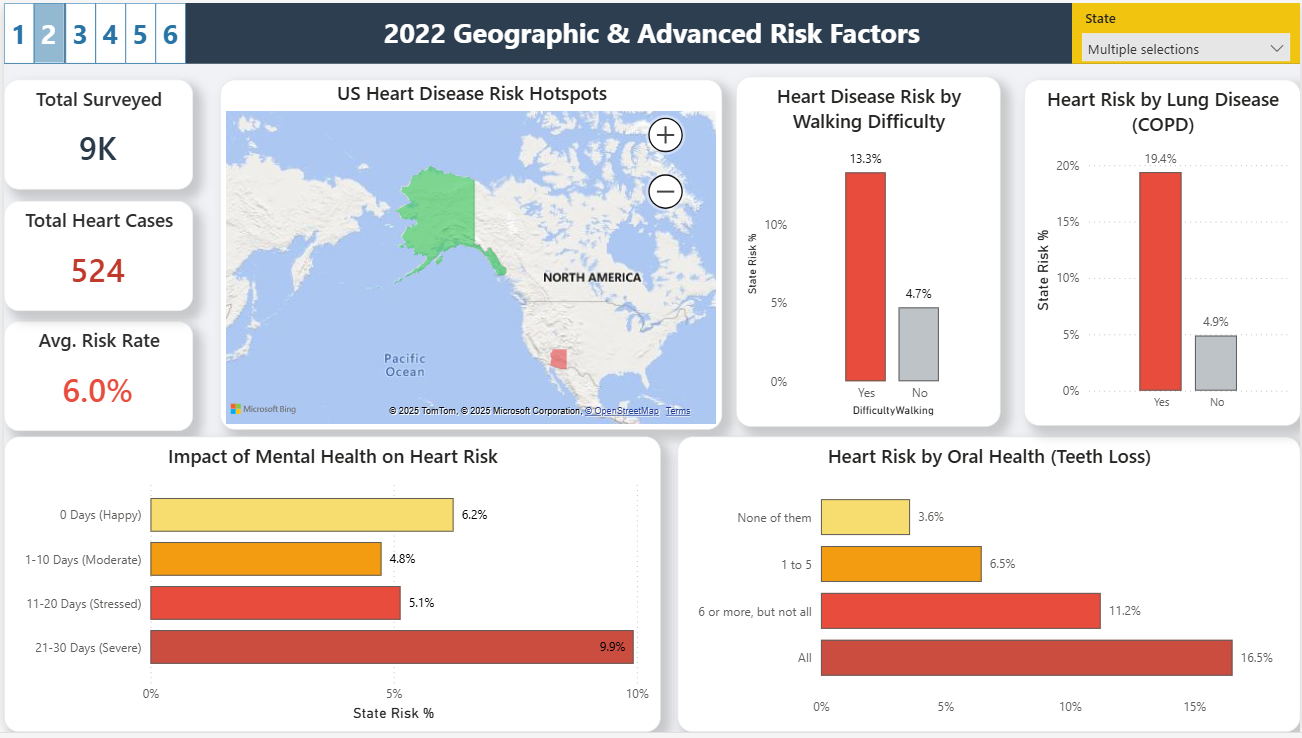

What the dashboard file says about the page in this screenshot:
{"tool":"powerbi","page":{"name":"Geography & State Analysis","canvas":[1280,720],"ordinal":2},"visuals":[{"type":"group","id":"g1","title":"Group 1","box":[0,0,1280,60],"z":0},{"type":"shape","box":[0,0,1280,60],"z":0,"group":"g1"},{"type":"actionButton","box":[0,0,30,60],"z":0,"group":"g2"},{"type":"actionButton","box":[30,0.1,30,60],"z":1000,"group":"g2"},{"type":"textbox","box":[368.6,4.7,541.8,55.1],"z":1000,"group":"g1"},{"type":"filledMap","title":"US Heart Disease Risk Hotspots","fields":{"Category":["heart_2022_no_nans.State"]},"box":[212.7,74.9,496.2,346.3],"z":1000},{"type":"slicer","fields":{"Values":["heart_2022_no_nans.State"]},"box":[1055,0,225,60],"z":2000},{"type":"actionButton","box":[90,0.1,30,60],"z":2000,"group":"g2"},{"type":"actionButton","box":[60,0.1,30,60],"z":3000,"group":"g2"},{"type":"clusteredColumnChart","title":"Heart Disease Risk by Walking Difficulty","fields":{"Y":["Key Measures.State Risk %"],"Category":["heart_2022_no_nans.DifficultyWalking"]},"box":[723,72.9,261.3,346.3],"z":3000},{"type":"actionButton","box":[120,0.1,30,60],"z":4000,"group":"g2"},{"type":"cardVisual","title":"Total Surveyed","fields":{"Data":["Key Measures.Total People 2022"]},"box":[0,75,186.7,108.3],"z":4000},{"type":"cardVisual","title":"Avg. Risk Rate","fields":{"Data":["Key Measures.State Risk %"]},"box":[0,313.3,186.7,108.3],"z":5000},{"type":"cardVisual","title":"Total Heart Cases","fields":{"Data":["Key Measures.Heart Patients 2022"]},"box":[0,195,186.7,108.3],"z":6000},{"type":"clusteredBarChart","title":"Impact of Mental Health on Heart Risk","fields":{"Category":["heart_2022_no_nans.Mental Health Category"],"Y":["Key Measures.State Risk %"]},"box":[0,428.3,648.3,291.7],"z":7000},{"type":"clusteredBarChart","title":"Heart Risk by Oral Health (Teeth Loss)","fields":{"Category":["heart_2022_no_nans.RemovedTeeth"],"Y":["Key Measures.State Risk %"]},"box":[665,428.3,615,291.7],"z":8000},{"type":"group","id":"g2","title":"Group 2","box":[0,0,150,60.1],"z":9000,"group":"g3"},{"type":"clusteredColumnChart","title":"Heart Risk by Lung Disease (COPD)","fields":{"Category":["heart_2022_no_nans.HadCOPD"],"Y":["Key Measures.State Risk %"]},"box":[1006.7,75,273.3,341.7],"z":9000},{"type":"group","id":"g3","title":"Group 3","box":[0,0,180,60],"z":10000},{"type":"actionButton","box":[150,0,30,60],"z":10500,"group":"g3"}]}

Visuals, with their boxes in screenshot pixels (x1, y1, x2, y2), scaled from the page's 1280x720 canvas onto the 1302x738 screenshot:
"Group 1" group: 0, 0, 1301, 61
shape: 0, 0, 1301, 61
actionButton: 0, 0, 31, 61
actionButton: 31, 0, 61, 62
textbox: 375, 5, 926, 61
"US Heart Disease Risk Hotspots" filledMap: 216, 77, 721, 432
slicer - heart_2022_no_nans.State: 1073, 0, 1301, 61
actionButton: 92, 0, 122, 62
actionButton: 61, 0, 92, 62
"Heart Disease Risk by Walking Difficulty" clusteredColumnChart: 735, 75, 1001, 430
actionButton: 122, 0, 153, 62
"Total Surveyed" cardVisual: 0, 77, 190, 188
"Avg. Risk Rate" cardVisual: 0, 321, 190, 432
"Total Heart Cases" cardVisual: 0, 200, 190, 311
"Impact of Mental Health on Heart Risk" clusteredBarChart: 0, 439, 659, 737
"Heart Risk by Oral Health (Teeth Loss)" clusteredBarChart: 676, 439, 1301, 737
"Group 2" group: 0, 0, 153, 62
"Heart Risk by Lung Disease (COPD)" clusteredColumnChart: 1024, 77, 1301, 427
"Group 3" group: 0, 0, 183, 61
actionButton: 153, 0, 183, 61
